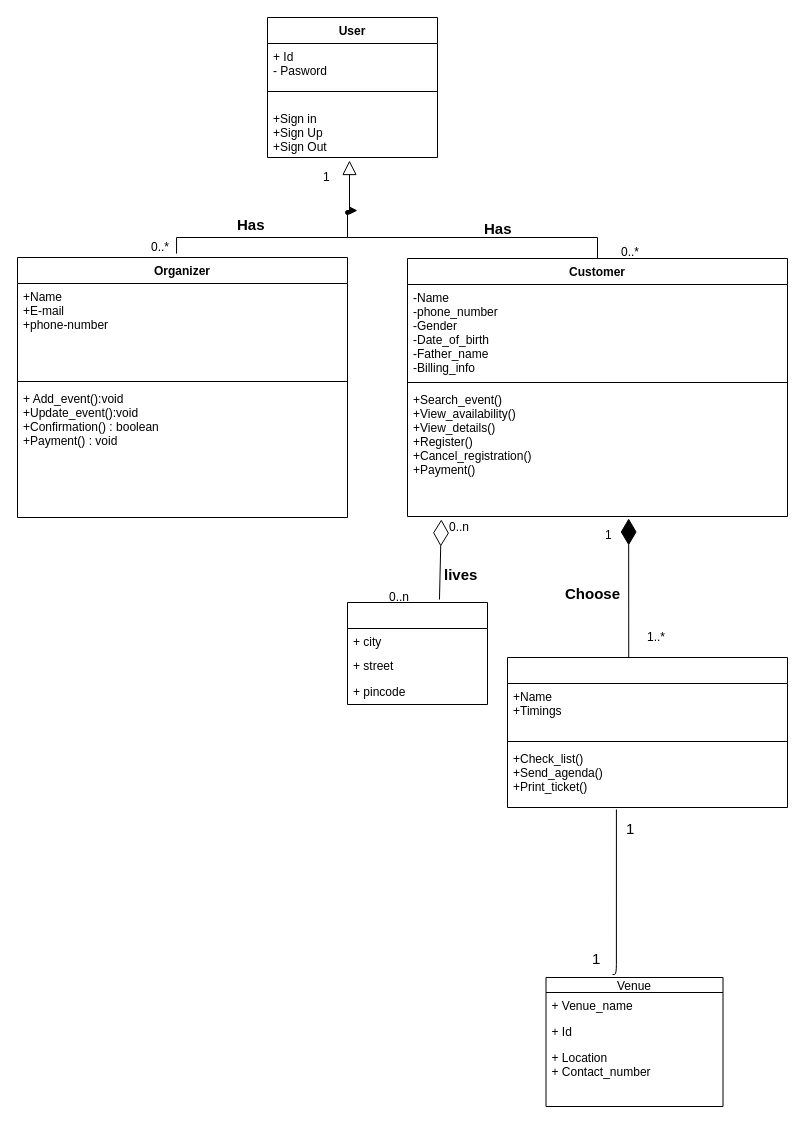
Some shapes in this 805 by 1127 pixel diagram are drawn without their labels. The box of each missing label's shape, as (x1, y1, x2, y2) in pixels:
Address: (346, 602, 488, 704)
Event: (506, 656, 788, 808)
